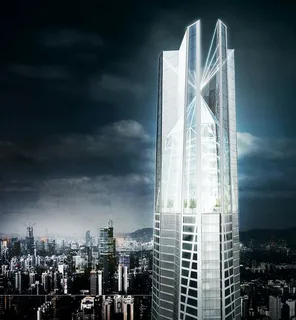high_rise_building: (147, 12, 245, 314)
